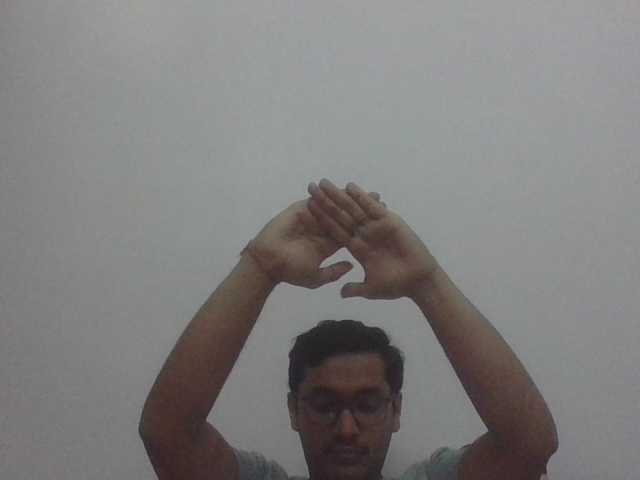W: (269, 178, 427, 303)
